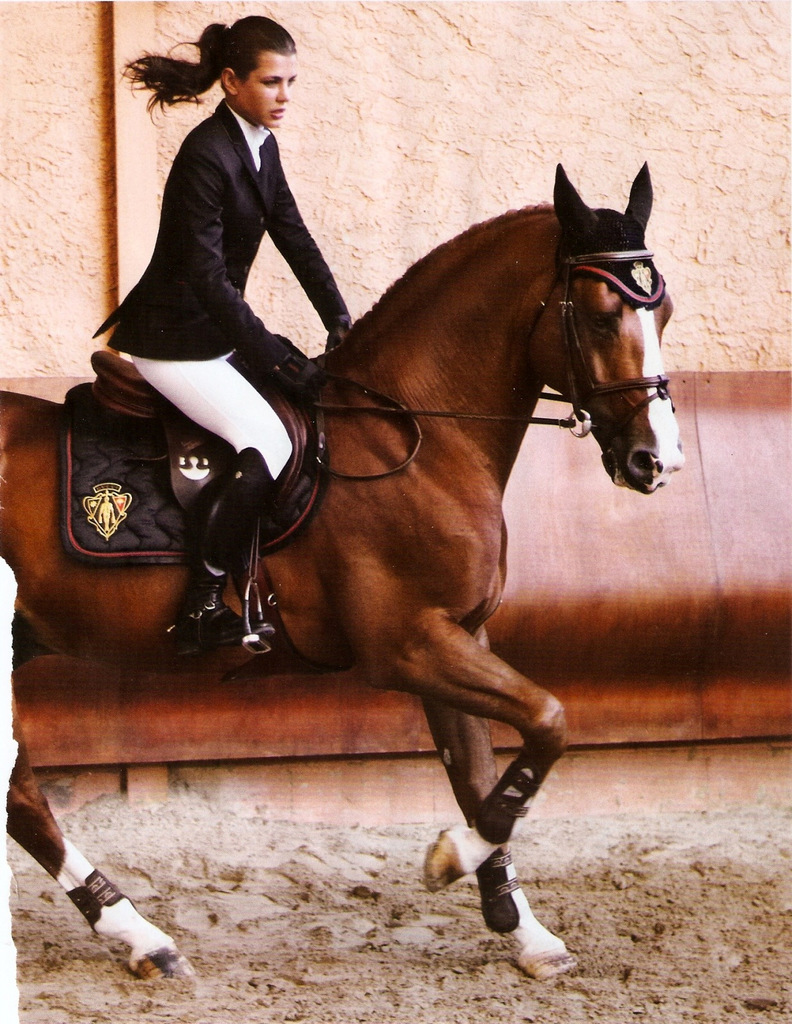Person: (90, 14, 352, 658)
